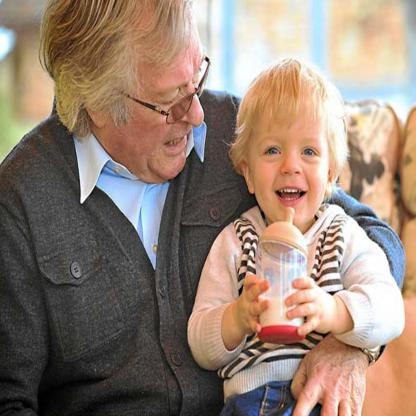face: (108, 14, 206, 182), (252, 91, 327, 222)
